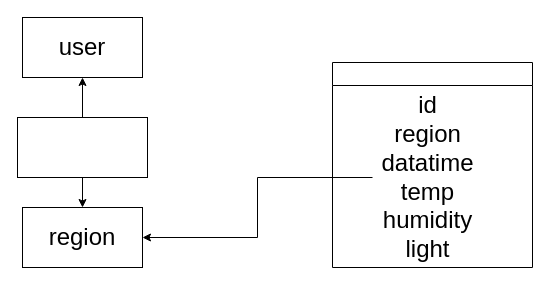
The diagram is 550 pixels wide and 285 high, and some of its shapes have lost their labels. The shapes that lost their labels are listed below. From the top down, each one's box as (x1, y1, x2, y2) in pixels, then its label:
(16, 116, 148, 178): user_region
(332, 62, 532, 268): mesurements
